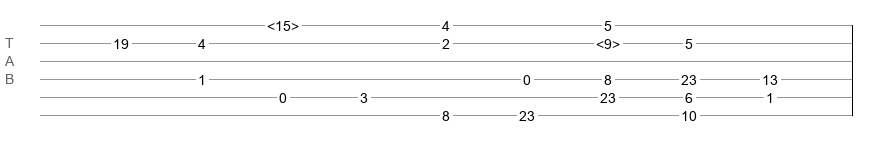0: (279, 90, 287, 100), (523, 72, 531, 82)
1: (198, 72, 206, 82), (766, 90, 774, 100)
10: (681, 108, 697, 118)
13: (762, 72, 778, 82)
19: (113, 36, 129, 46)
2: (442, 36, 450, 46)
23: (519, 108, 535, 118), (600, 90, 616, 100), (681, 72, 697, 82)
3: (360, 90, 368, 100)
4: (198, 36, 206, 46), (442, 18, 450, 28)
5: (604, 18, 612, 28), (685, 36, 693, 46)
6: (685, 90, 693, 100)
8: (442, 108, 450, 118), (604, 72, 612, 82)
harmonic: (267, 18, 299, 28), (596, 36, 620, 46)
